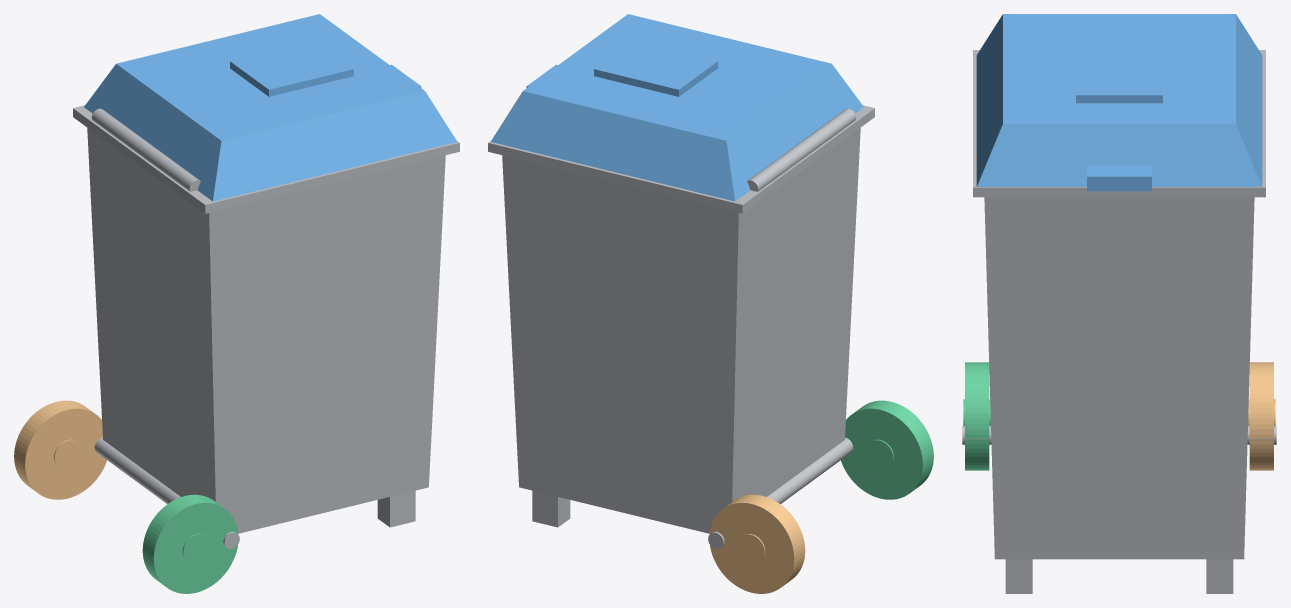
Rendered from parts.glb.
The picture shows the model from 3 angles, left to right: view 1: azimuth 30°, elevation 25°; view 2: azimuth 150°, elevation 25°; view 3: azimuth 270°, elevation 25°; orthographic projection. The views are drawn at different scales.
Visible parts, largest first — view 1: visual_0_0, visual_1_0, visual_3_0, visual_2_0; view 2: visual_0_0, visual_1_0, visual_2_0, visual_3_0; view 3: visual_0_0, visual_1_0, visual_3_0, visual_2_0.
Boxes of the visible parts, x1,y1,x2,y2 form: visual_0_0: [73, 105, 459, 548]; visual_1_0: [84, 14, 457, 201]; visual_3_0: [142, 494, 238, 593]; visual_2_0: [14, 400, 106, 499]; visual_0_0: [488, 105, 874, 548]; visual_1_0: [490, 14, 863, 201]; visual_2_0: [709, 494, 805, 593]; visual_3_0: [841, 400, 933, 499]; visual_0_0: [962, 50, 1276, 593]; visual_1_0: [976, 14, 1262, 191]; visual_3_0: [963, 362, 990, 470]; visual_2_0: [1248, 362, 1275, 470].
Bounding box in the file's own units: 0.76 × 0.982 × 0.58.
